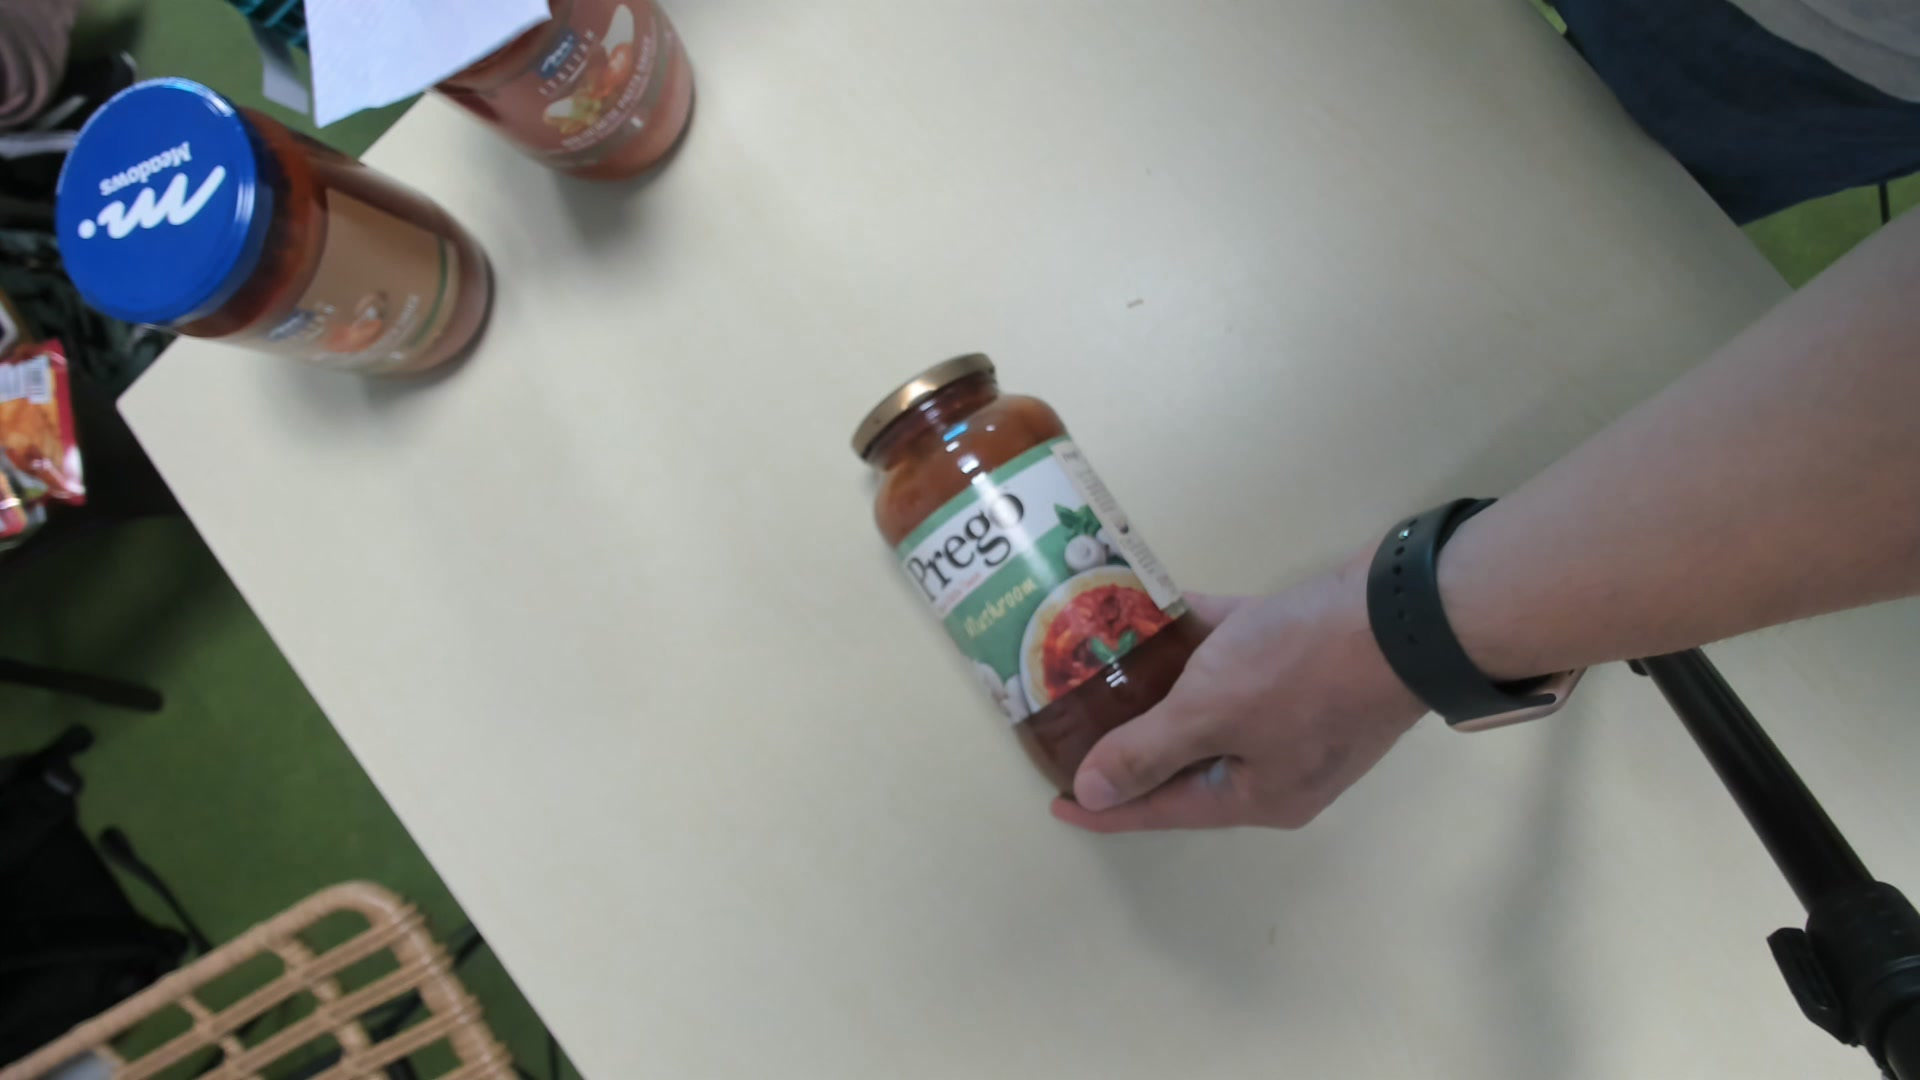PastaSauce_600-699g_Halal_NonHealthy: (848, 349, 1211, 799)
